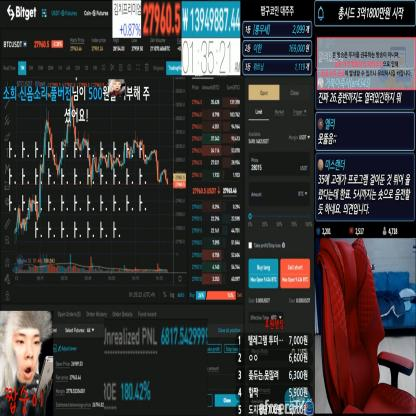donation: (3, 78, 150, 123)
